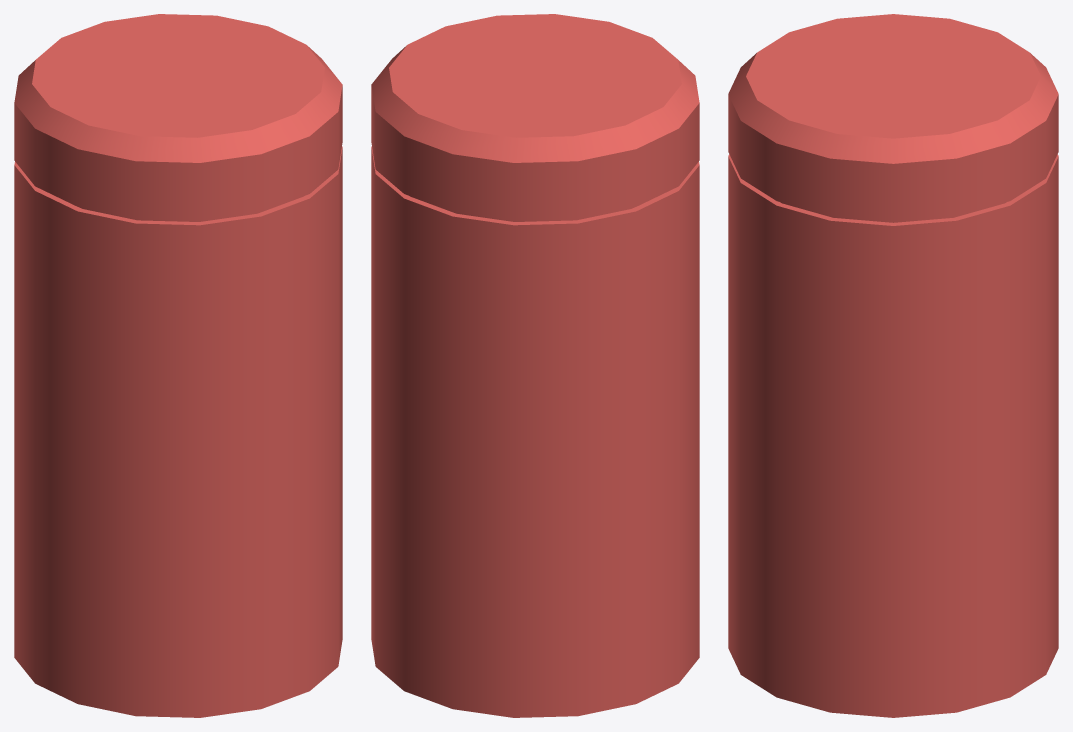
File: TrashBin.fbx
3 renders of one model, left to right at view 1: azimuth 30°, elevation 25°; view 2: azimuth 150°, elevation 25°; view 3: azimuth 270°, elevation 25°, orthographic.
Visible parts, largest first — view 1: Cylinder.111; view 2: Cylinder.111; view 3: Cylinder.111.
Part boxes in pixels (x1,y1,x2,y2): Cylinder.111: [14, 14, 342, 717]; Cylinder.111: [371, 14, 699, 717]; Cylinder.111: [728, 14, 1058, 717].
Size of the model in its own units: 0.4227 by 0.8068 by 0.4227.
